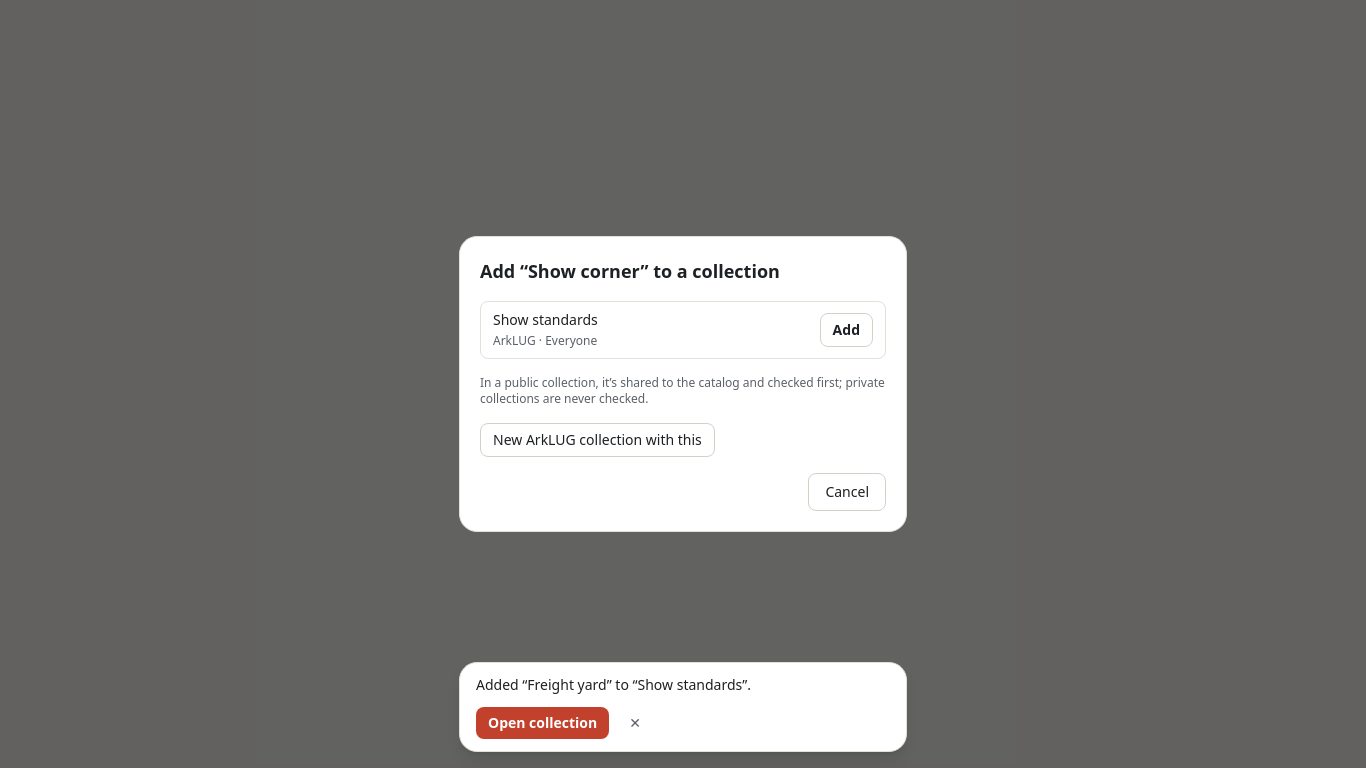
it: Add to a collection… › a club’s module: only that club’s collections, and it says when it waits for review
The image size is (1366, 768).
Click the button with aria-label "Add to Show standards".
click(846, 330)  # box [820,313,873,347]
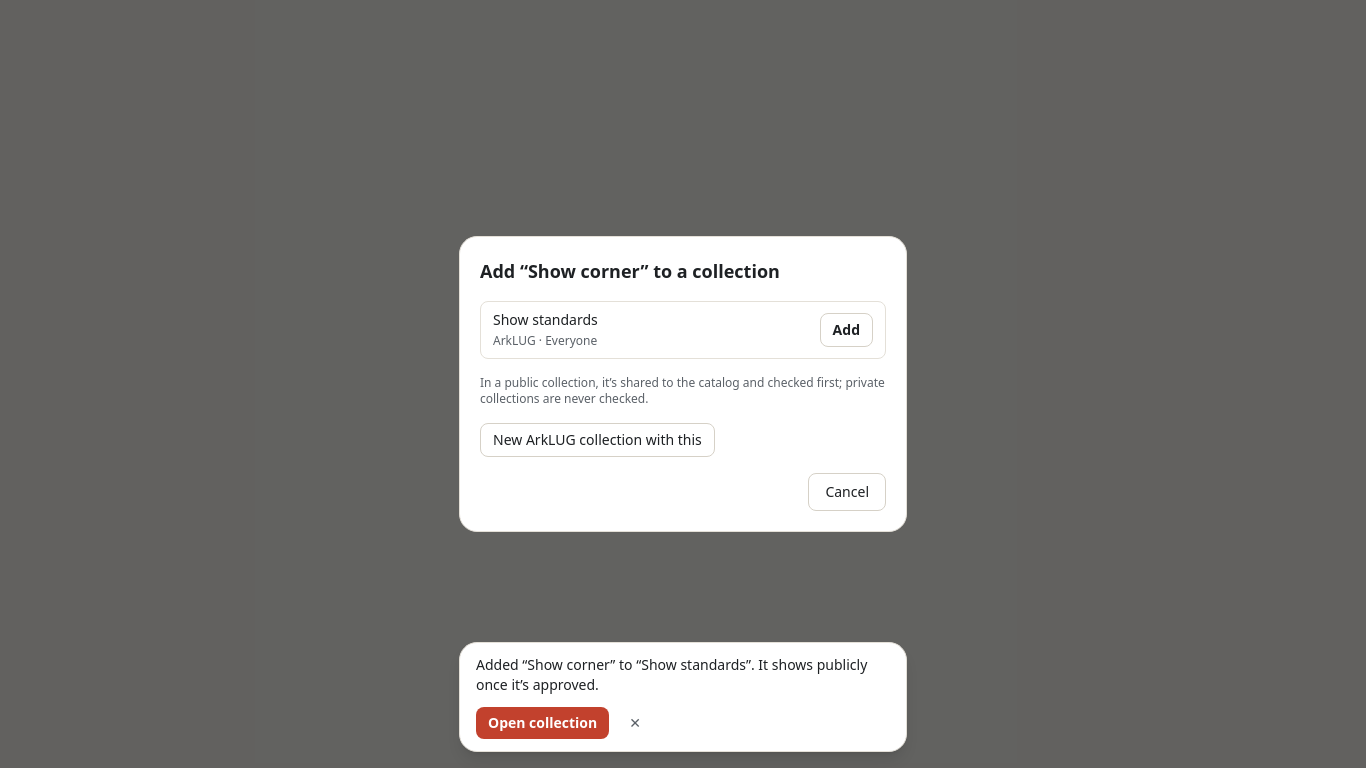
Now the message with test id "collection-toast" shows "It shows publicly once it’s approved.", box [476,655,867,694]
